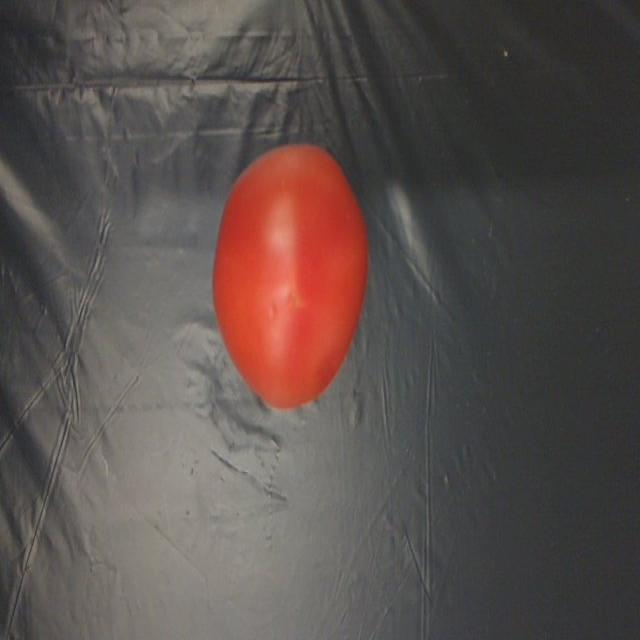kirmizi: (207, 141, 370, 421)
